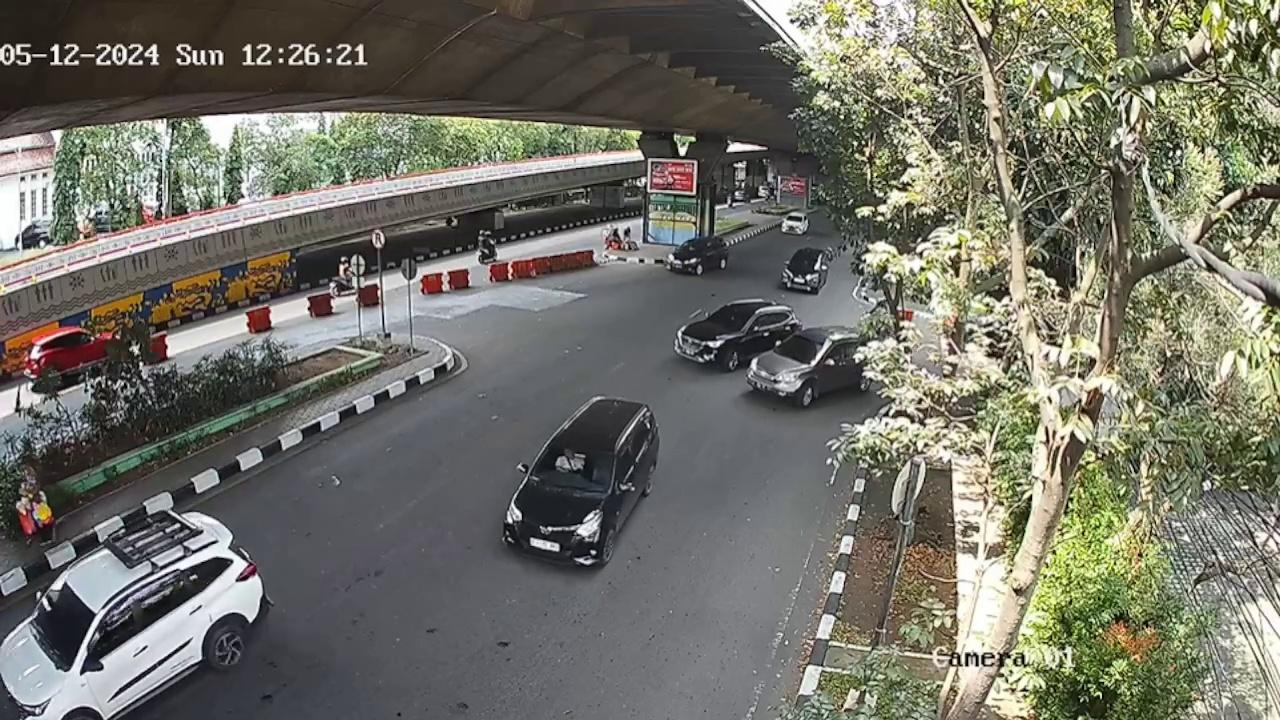pakai: (553, 447, 587, 479)
windshield: (535, 440, 617, 506)
